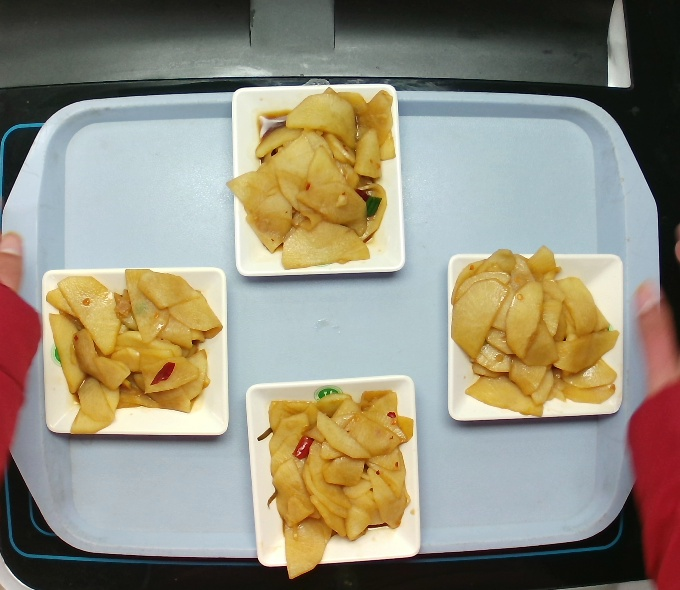wcq-YanLuoBo: (226, 80, 394, 271), (453, 236, 615, 424), (260, 380, 408, 573), (46, 271, 216, 433)
